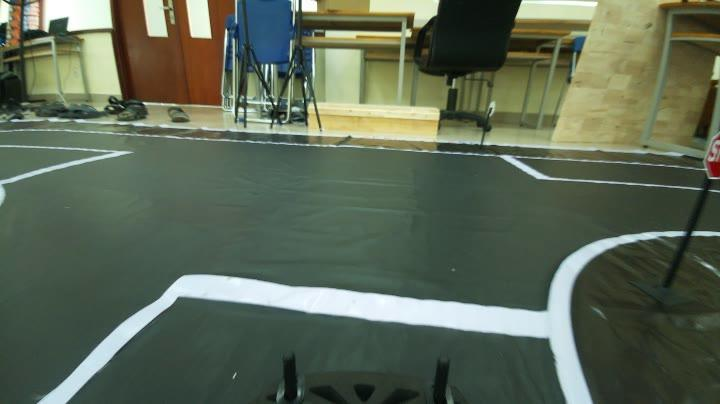stop: (701, 132, 720, 180)
